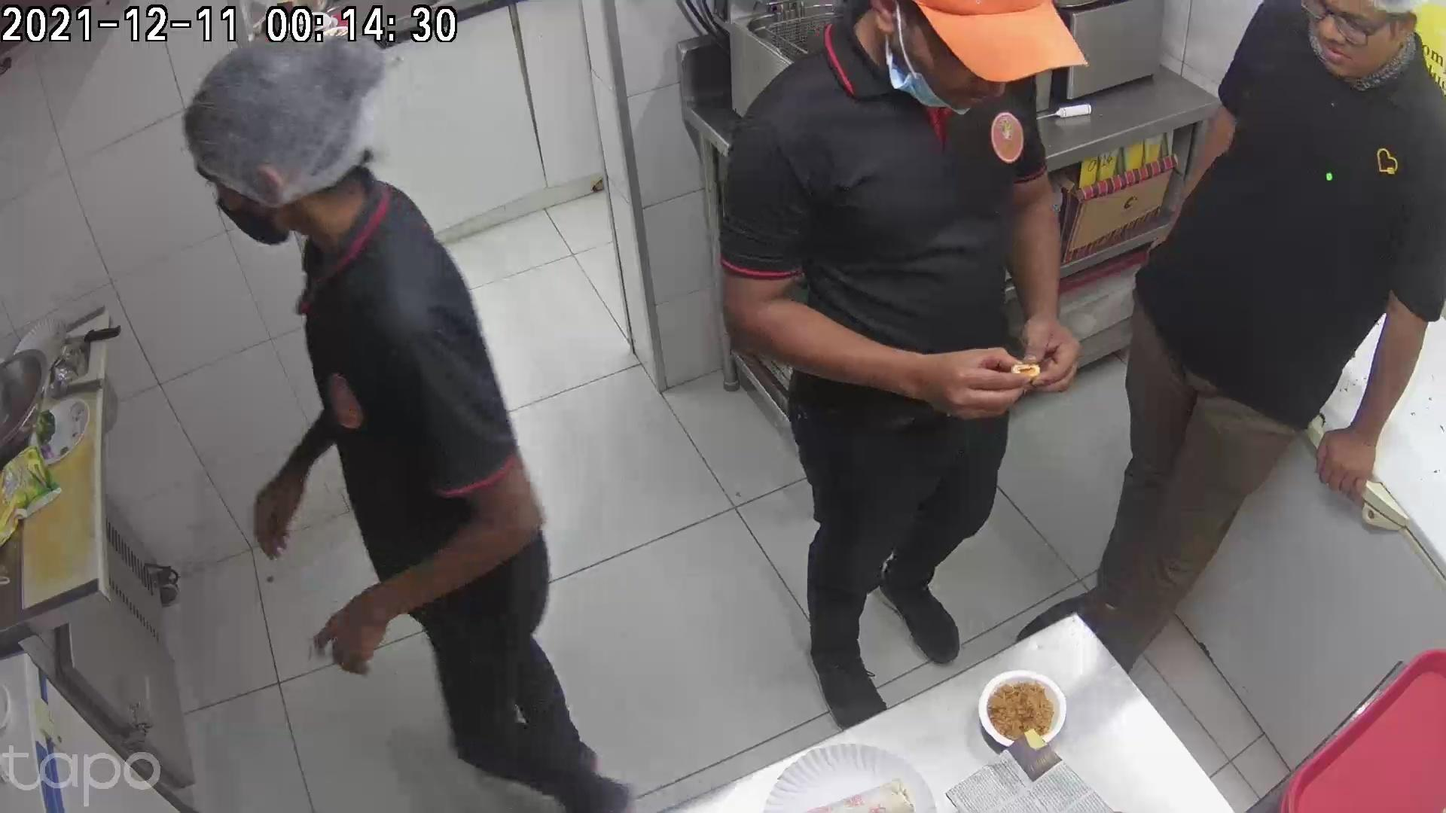no_gloves: (618, 315, 757, 399)
